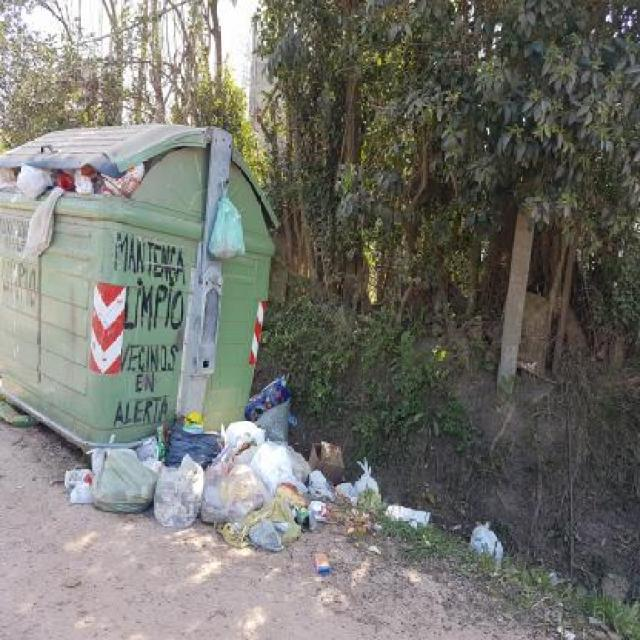garbage: (65, 451, 386, 536), (145, 412, 351, 444), (0, 167, 155, 201), (206, 174, 246, 265), (466, 519, 507, 566), (388, 495, 436, 532), (0, 395, 39, 430), (246, 382, 294, 405), (314, 550, 335, 579)
